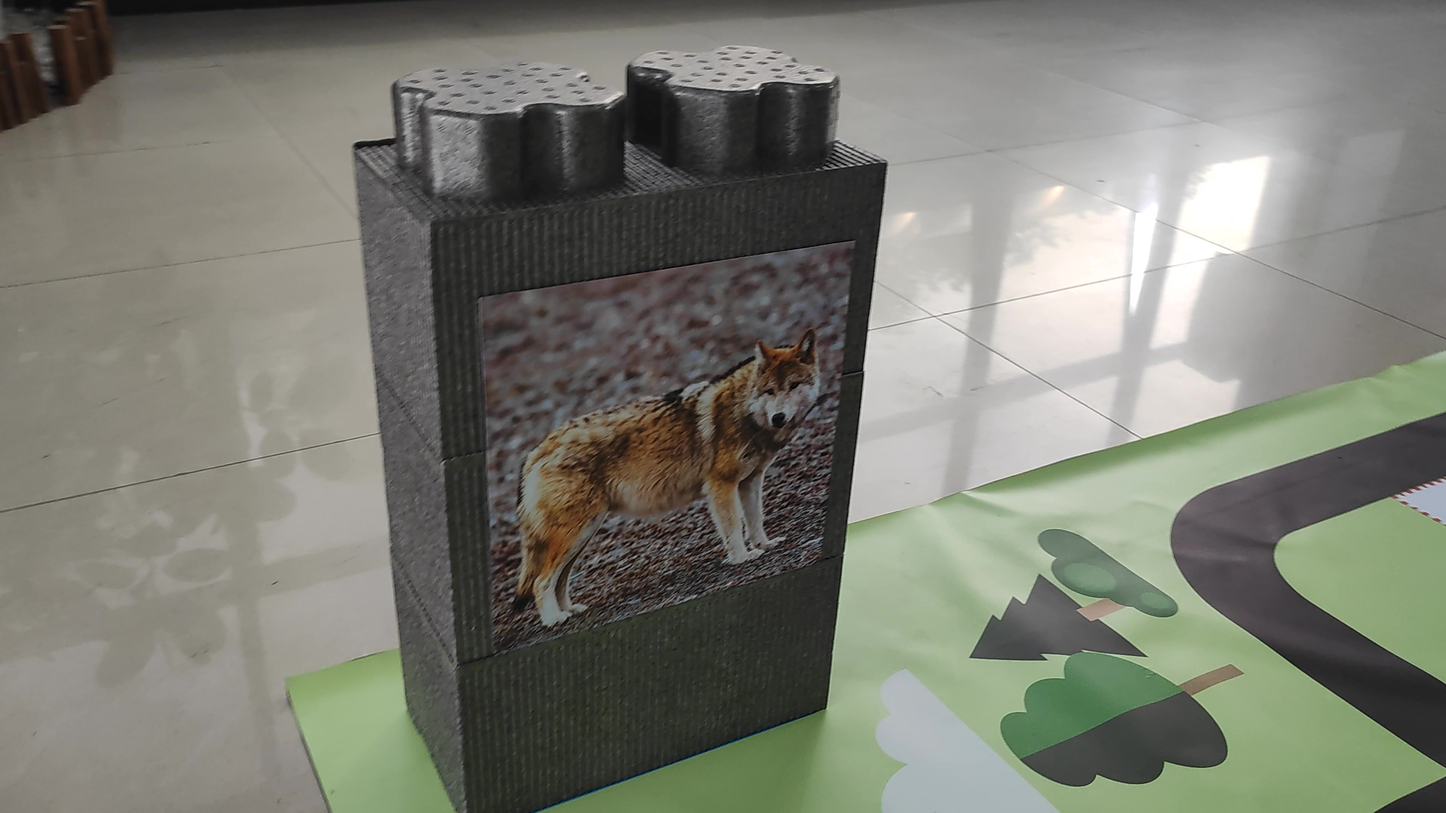wolf: (461, 310, 826, 618)
